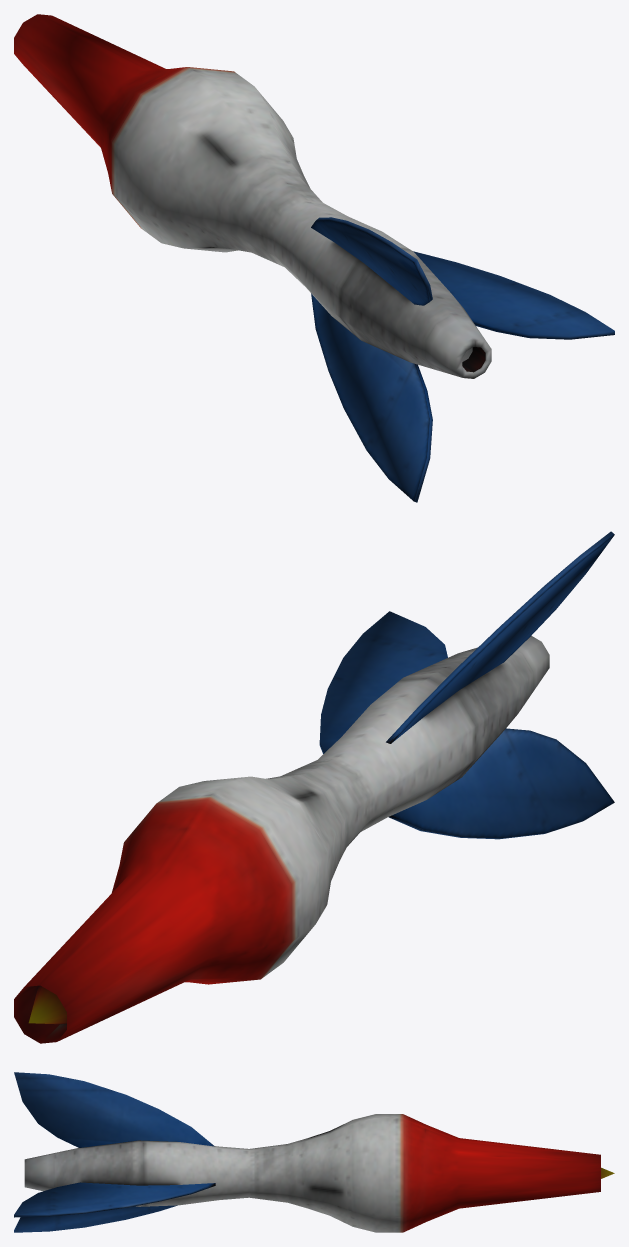
Rendered from p1_rocket_proj.fbx.
The picture shows the model from 3 angles, top to bottom: view 1: azimuth 30°, elevation 25°; view 2: azimuth 150°, elevation 25°; view 3: azimuth 270°, elevation 25°; orthographic projection. The views are drawn at different scales.
Parts seen in each view (by area): view 1: p1_rocket_projectile; view 2: p1_rocket_projectile; view 3: p1_rocket_projectile.
Part boxes in pixels (x1,y1,x2,y2): p1_rocket_projectile: [14, 14, 614, 502]; p1_rocket_projectile: [14, 531, 614, 1043]; p1_rocket_projectile: [14, 1072, 614, 1232].
Size of the model in its own units: 184 by 205 by 695.
